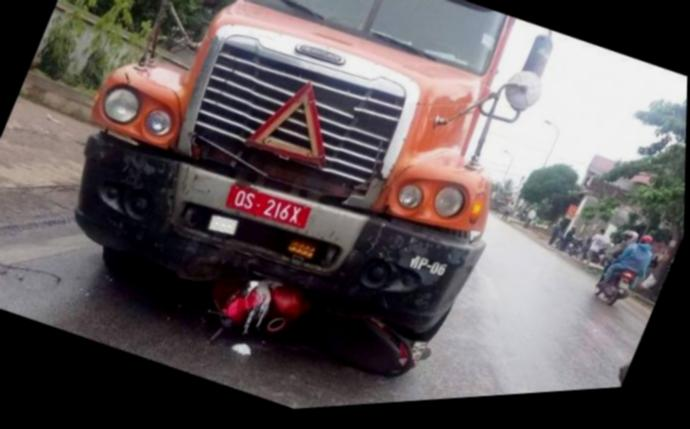License_Plate: (230, 182, 306, 235)
